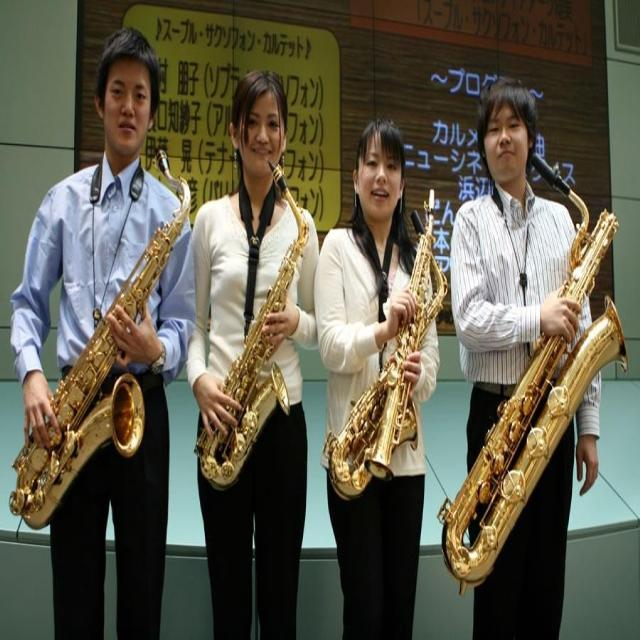saxophone: (438, 158, 630, 588), (11, 147, 194, 531), (191, 161, 310, 492), (325, 209, 452, 504)
